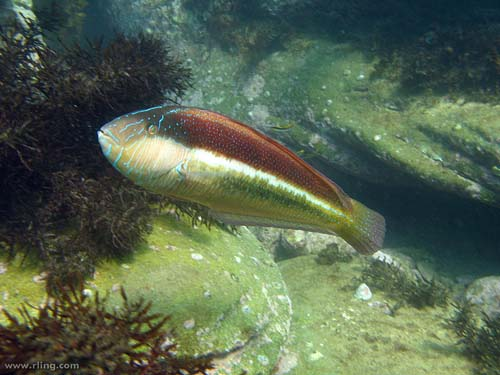fish: (95, 104, 386, 255)
